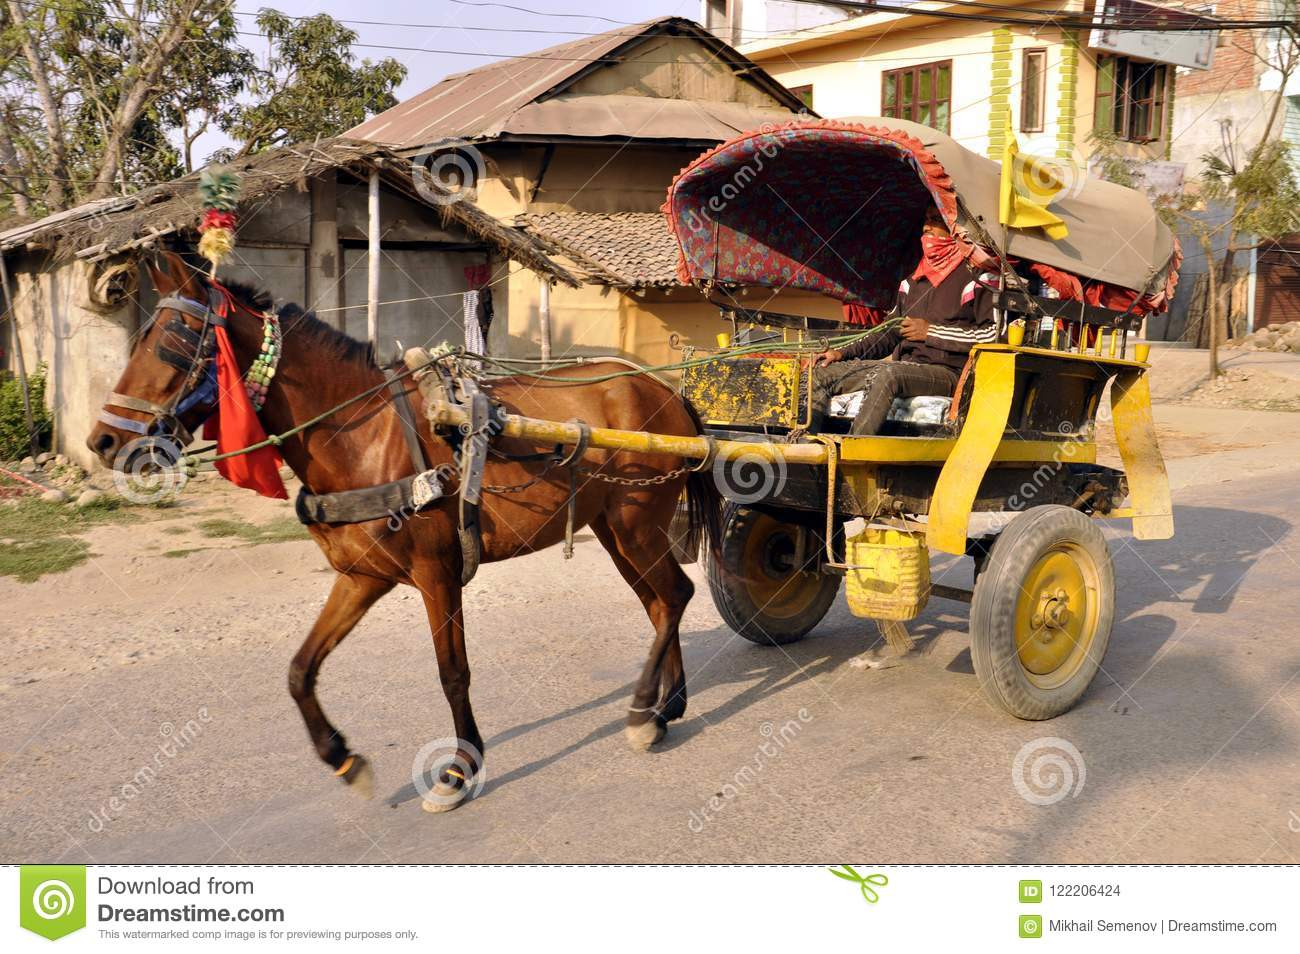equine: (63, 230, 785, 816)
